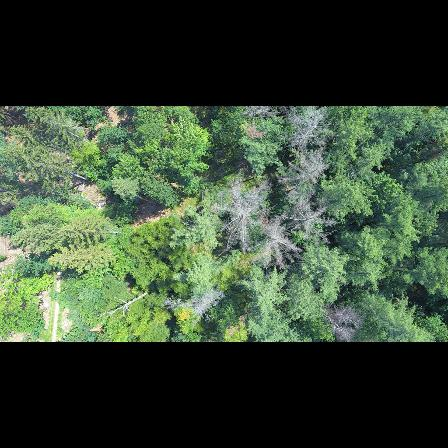Dead: (215, 186, 267, 245), (164, 287, 229, 323), (289, 107, 328, 153), (281, 157, 329, 192), (258, 226, 300, 265), (281, 206, 329, 238), (321, 308, 365, 341)
